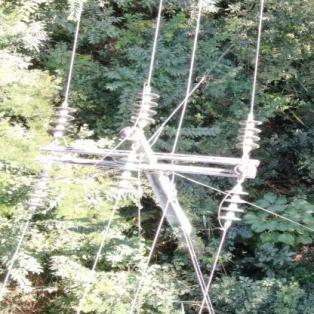Poste: (123, 125, 196, 240)
